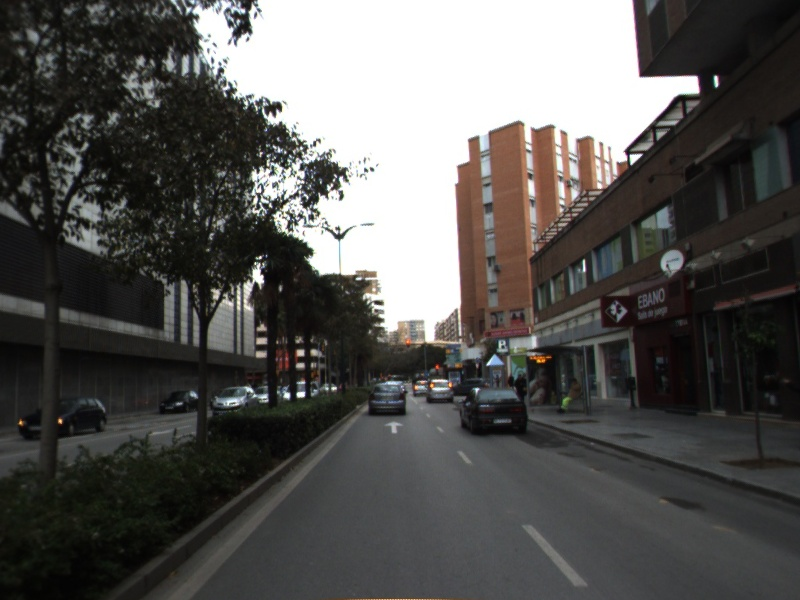STRAIGHT: (382, 419, 406, 435)
